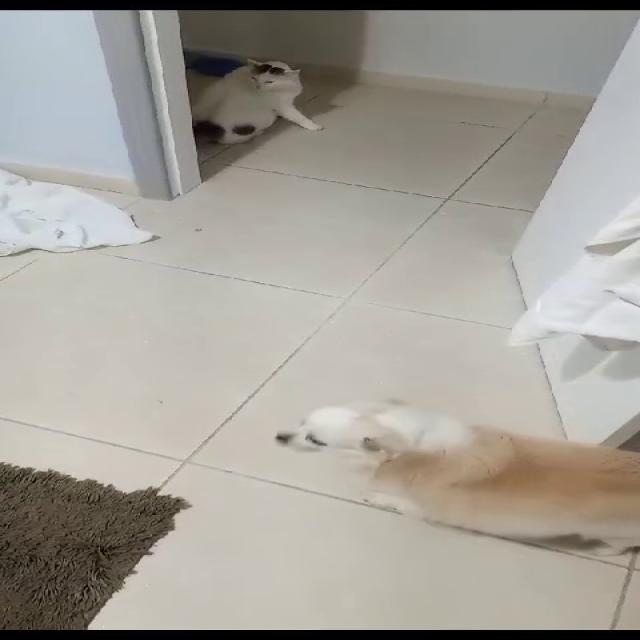Simba: (185, 48, 352, 154)
Theo: (257, 392, 638, 560)
